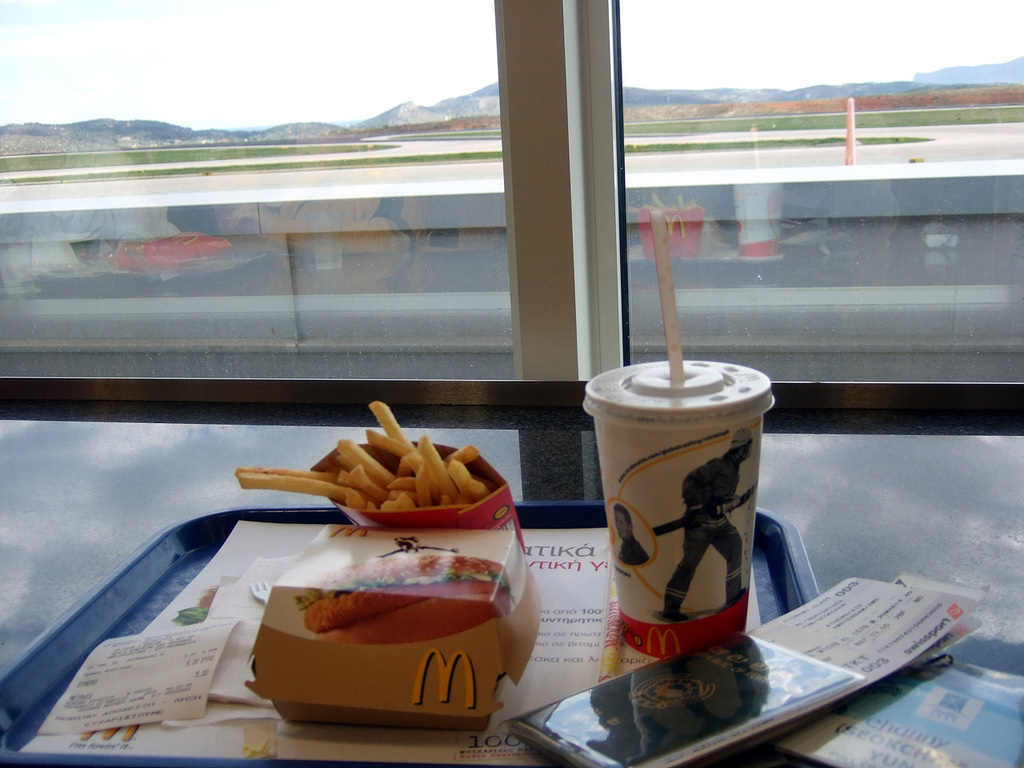French fries: (248, 431, 519, 548)
